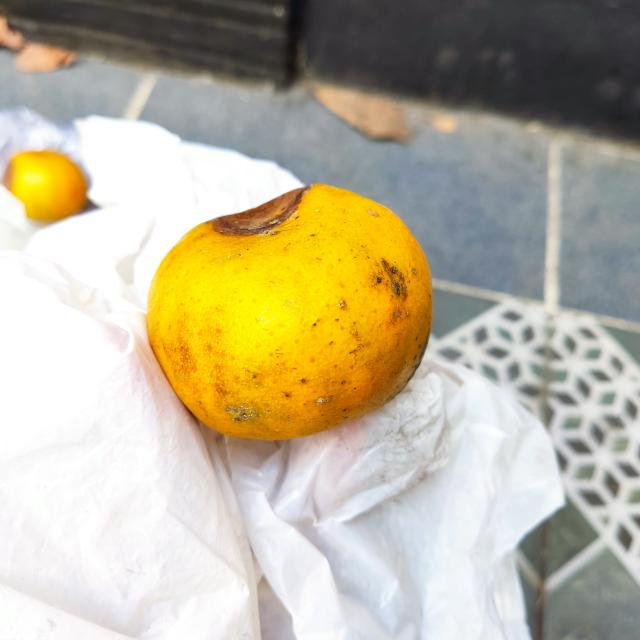orange: (148, 183, 435, 443)
